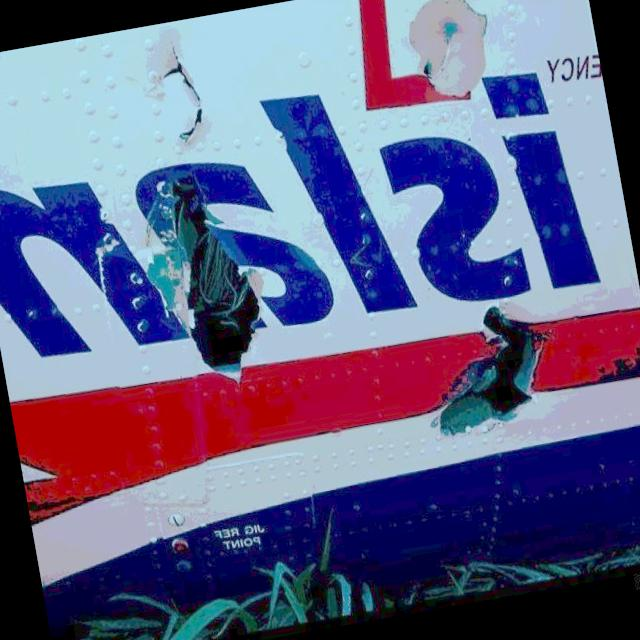crack: (156, 160, 278, 396), (410, 296, 554, 442), (150, 32, 213, 152), (414, 53, 443, 95)
